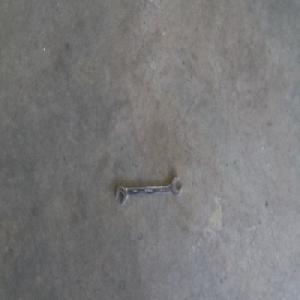Wrench: (115, 174, 182, 202)
